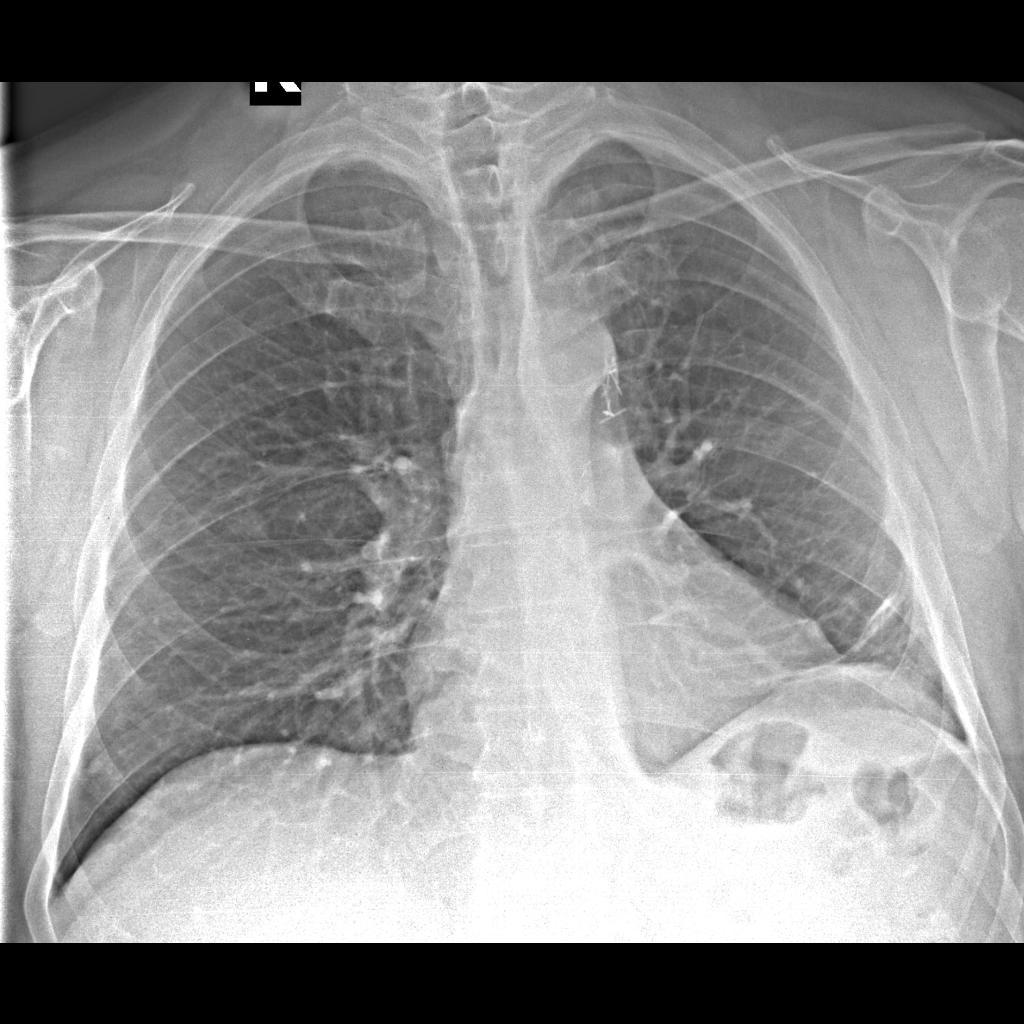Nodule: (214, 491, 274, 553)
